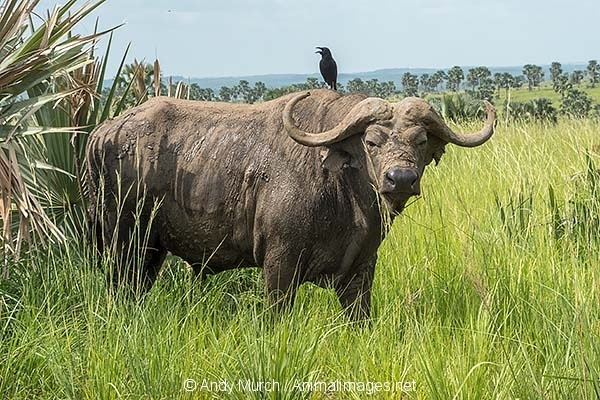buffalo: (83, 90, 498, 330)
